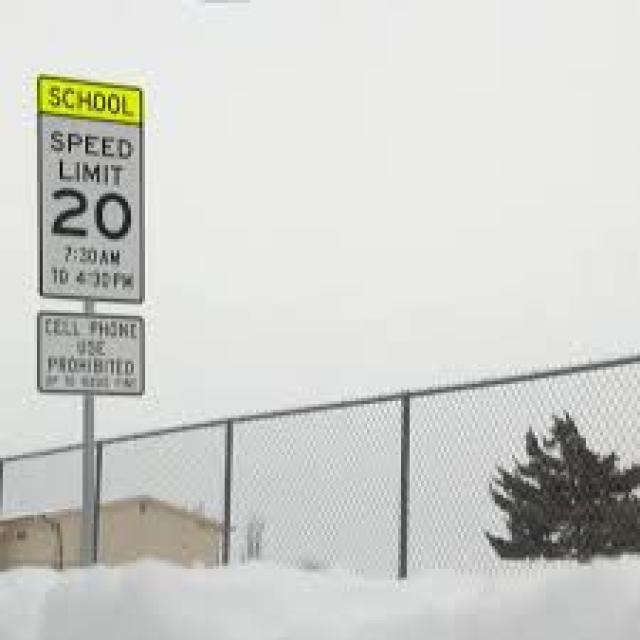speedLimit20: (36, 116, 146, 258)
